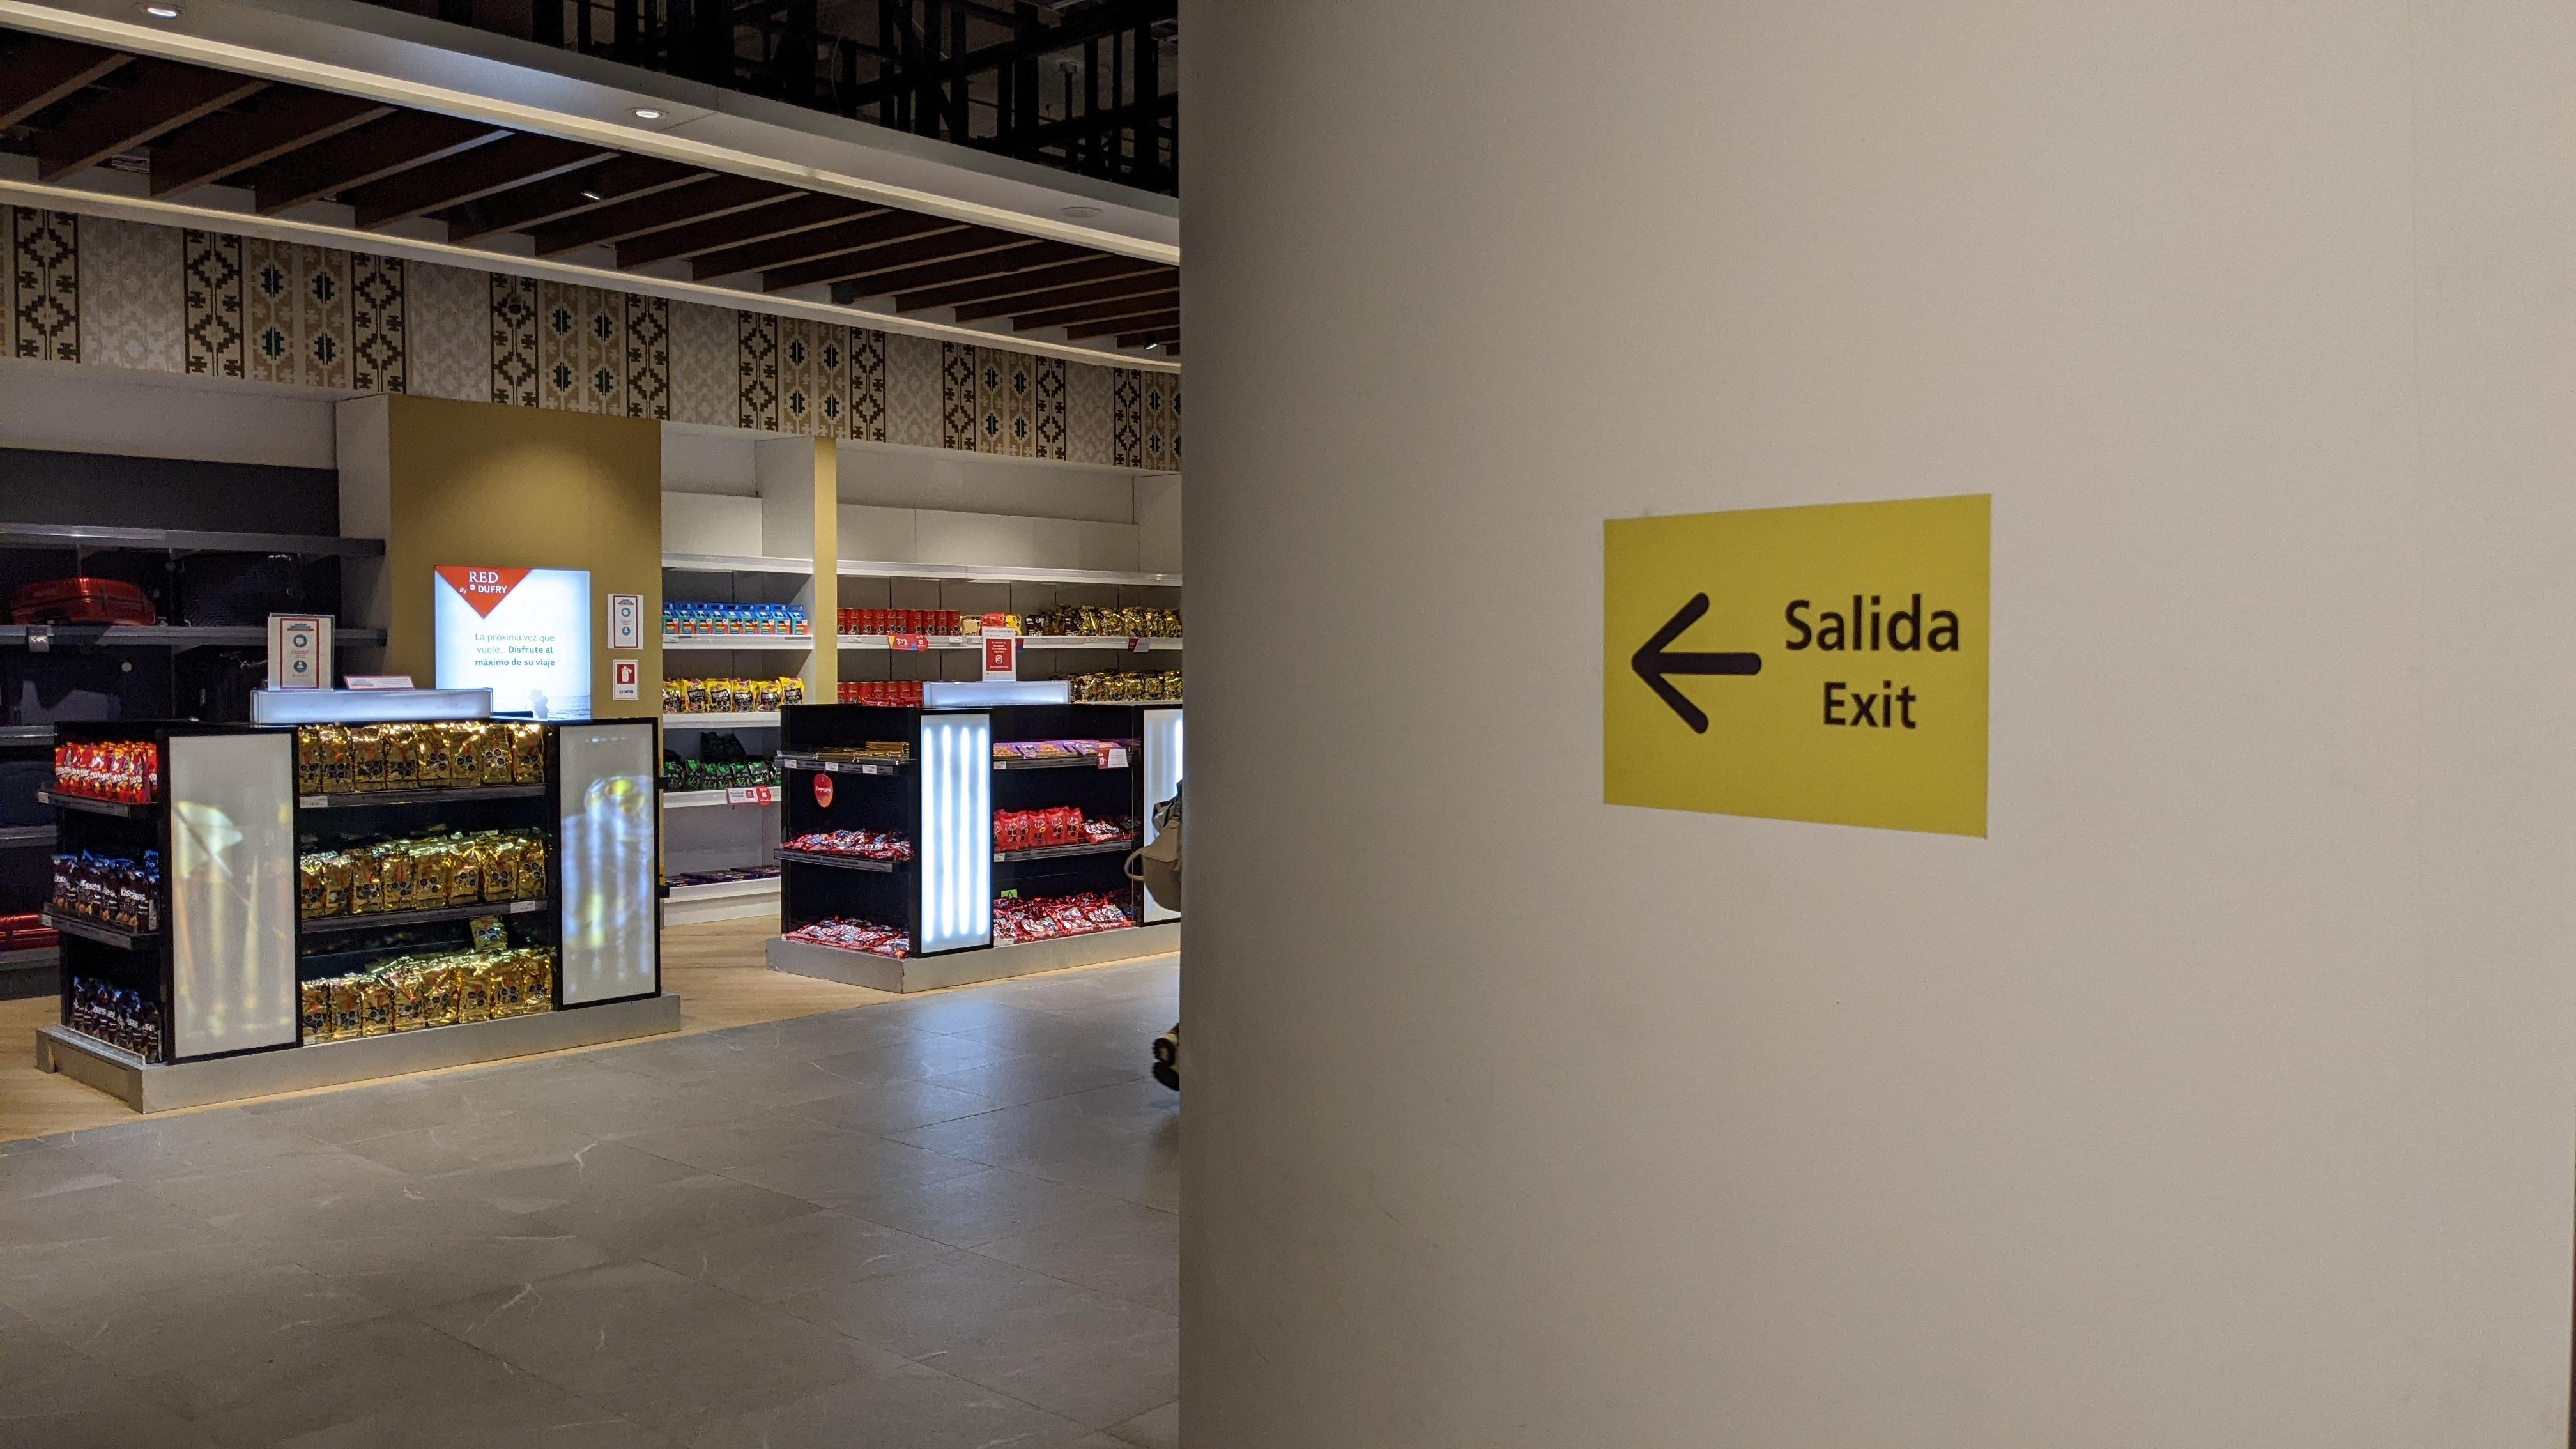thin right arrow: (1624, 585, 1770, 744)
